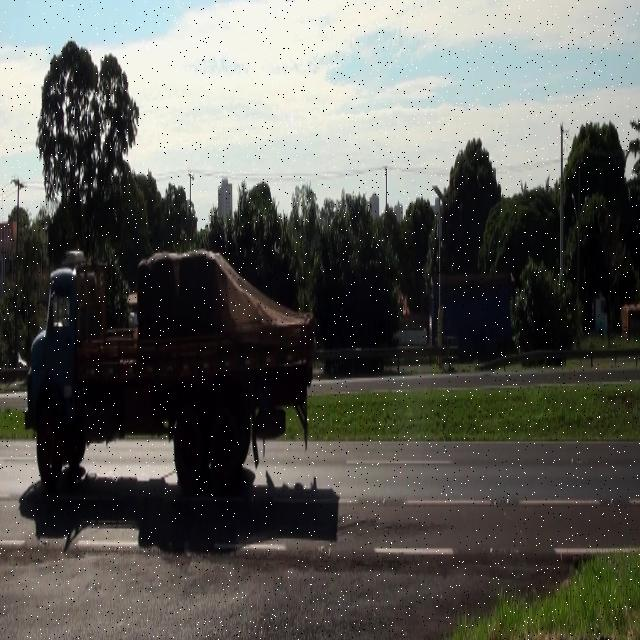-axle: (171, 401, 204, 491), (208, 399, 238, 493), (38, 410, 61, 487)
